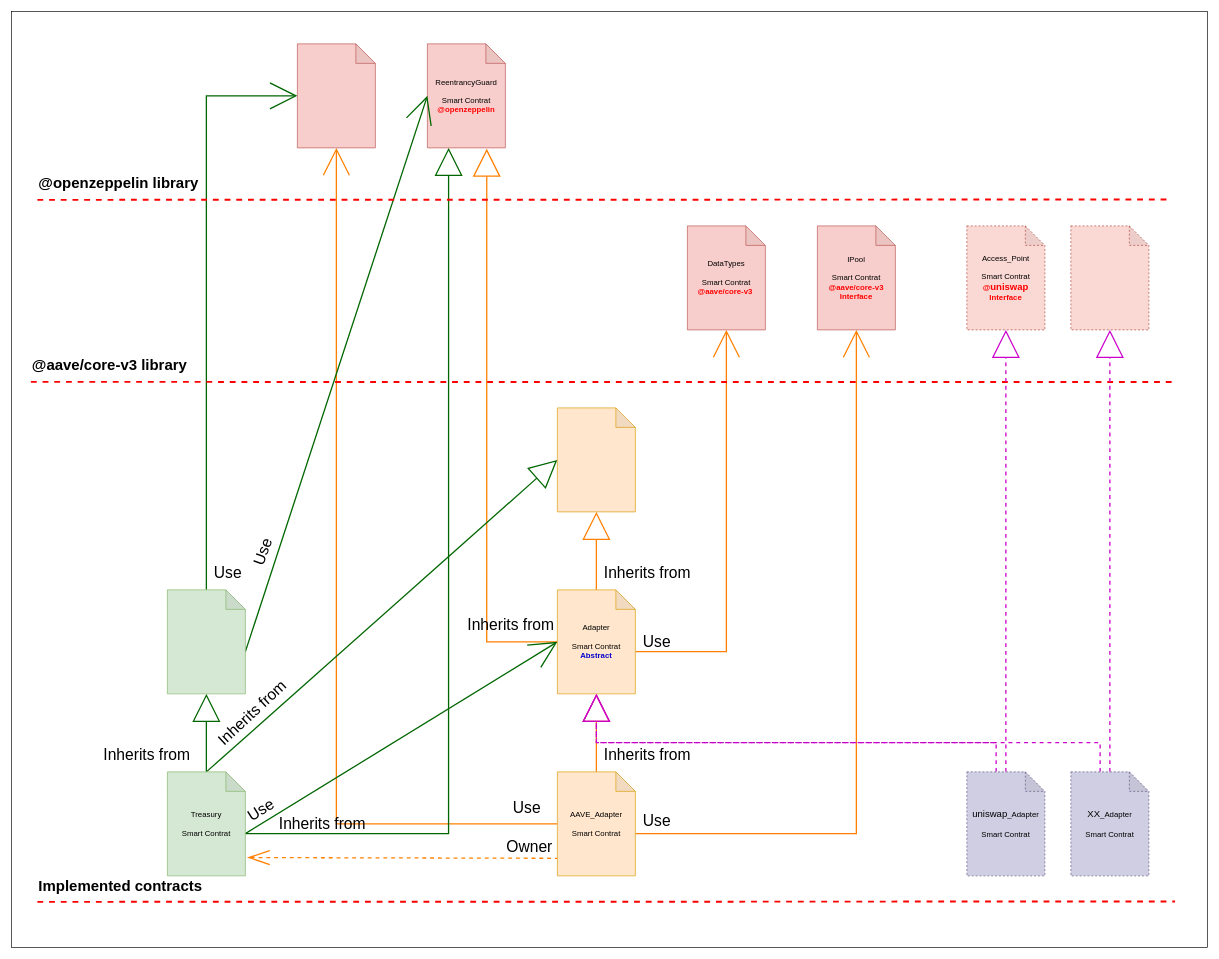
The diagram is 1219 pixels wide and 959 high, and some of its shapes have lost their labels. Each missing label, with the centre of its shape:
"Access_Point Smart Contrat @ XX Interface" goes at [1109,277].
"Auth Smart Contrat Abstract" goes at [596,459].
"IERC20 Smart Contrat @openzeppelin Interface" goes at [336,95].
"ITreasury Smart Contrat Interface" goes at [206,641].
